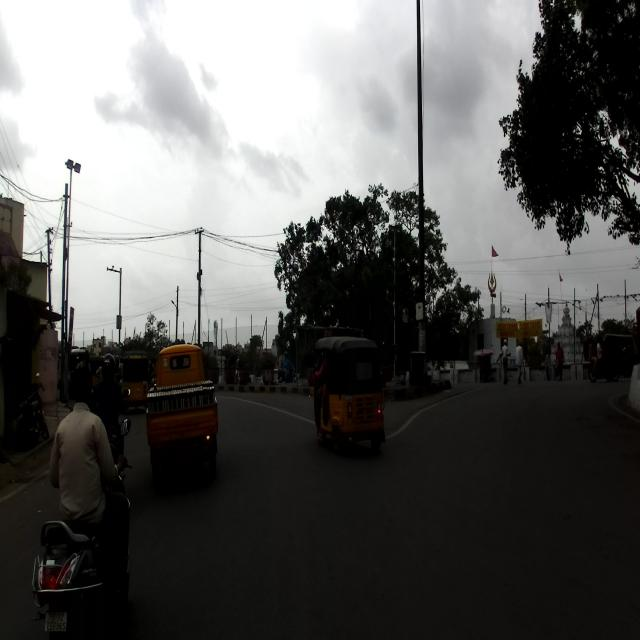autorickshaw: (145, 342, 219, 479), (311, 335, 386, 455)
scooter: (26, 416, 132, 638)
